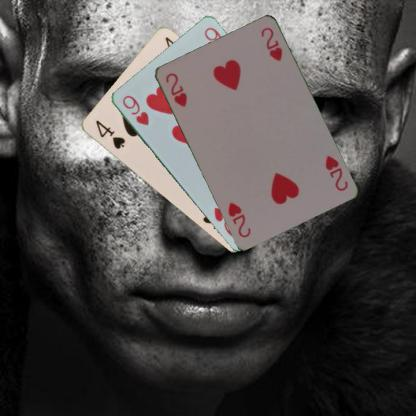2h: (322, 152, 349, 192), (162, 70, 188, 109)
4s: (92, 117, 126, 151)
9h: (120, 93, 150, 127)
